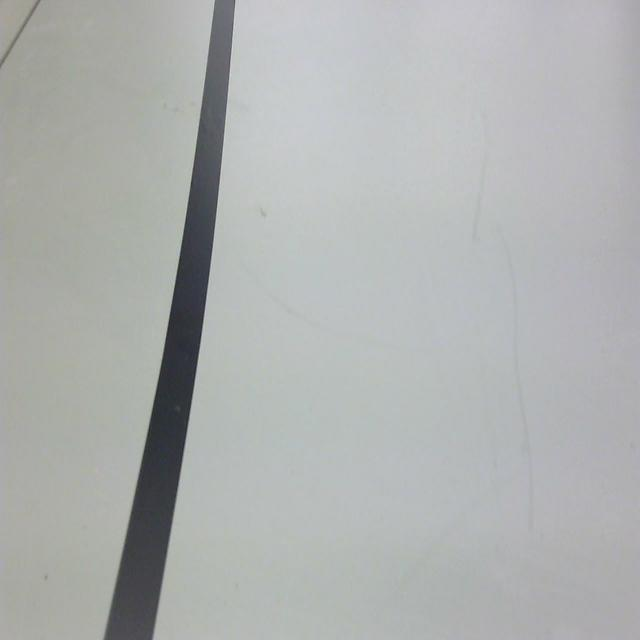tape: (82, 0, 246, 640)
